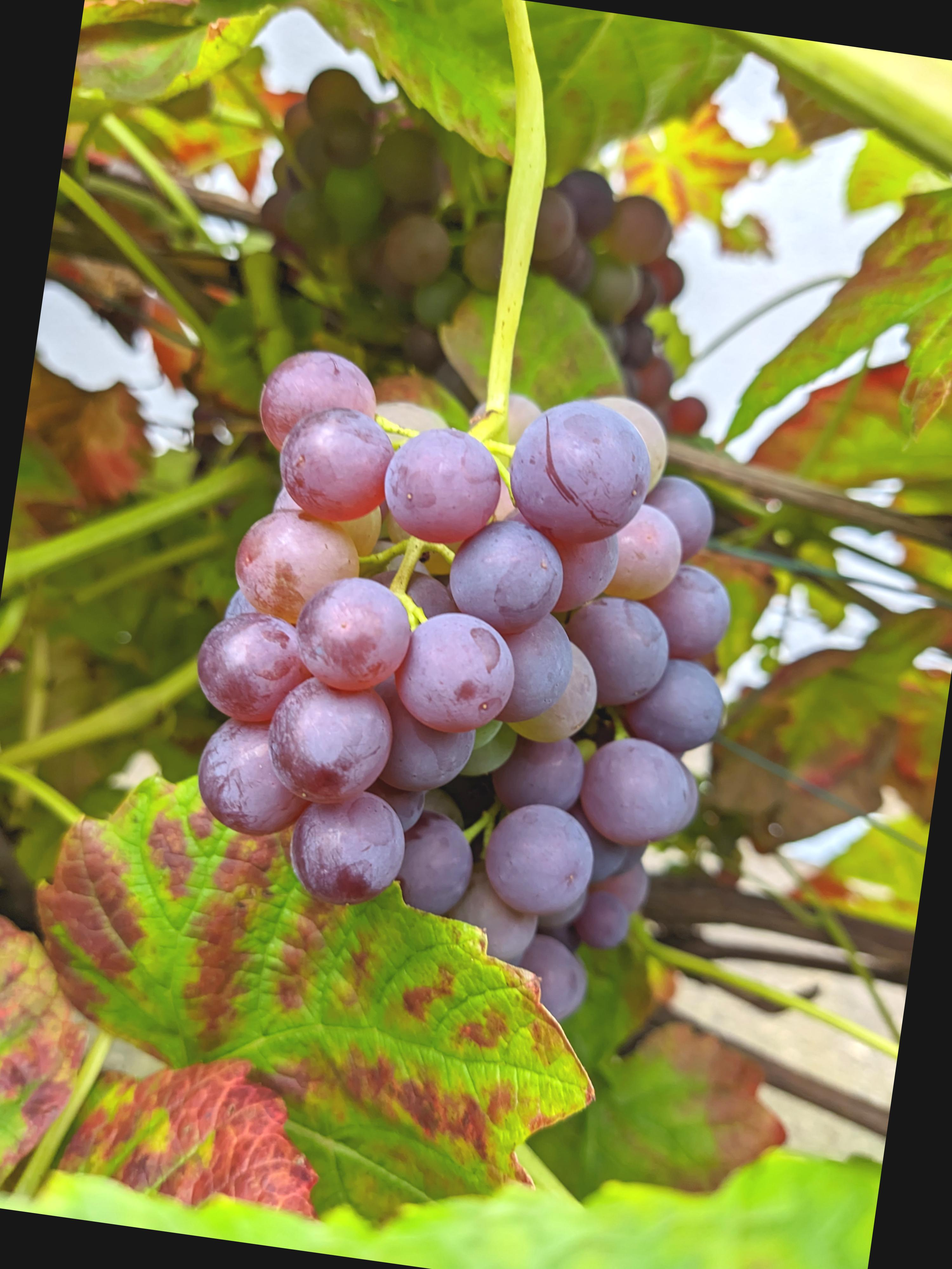Grape Unripe: (240, 283, 854, 993), (318, 2, 840, 376)
